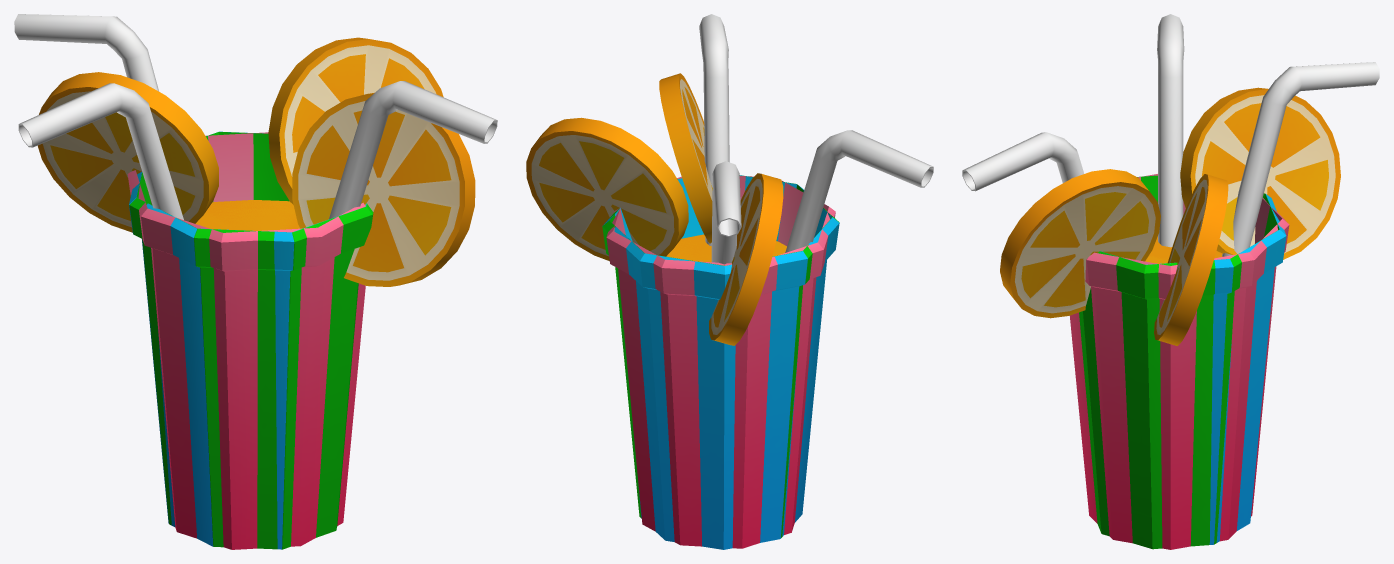
The model's file is Cup1.fbx.
The picture shows the model from 3 angles, left to right: view 1: azimuth 30°, elevation 25°; view 2: azimuth 150°, elevation 25°; view 3: azimuth 270°, elevation 25°; orthographic projection. The views are drawn at different scales.
Visible parts, largest first — view 1: Cup1_2, Cup1_3, Cup1_1; view 2: Cup1_2, Cup1_1, Cup1_3; view 3: Cup1_3, Cup1_2, Cup1_1.
Part boxes in pixels (x1,y1,x2,y2): Cup1_2: (18, 37, 443, 549); Cup1_3: (38, 72, 497, 549); Cup1_1: (14, 14, 475, 549); Cup1_2: (526, 117, 933, 548); Cup1_1: (603, 73, 839, 549); Cup1_3: (602, 14, 839, 537); Cup1_3: (962, 87, 1340, 549); Cup1_2: (1070, 14, 1289, 549); Cup1_1: (1000, 62, 1379, 544).
Size of the model in its own units: 811 by 831 by 755.
